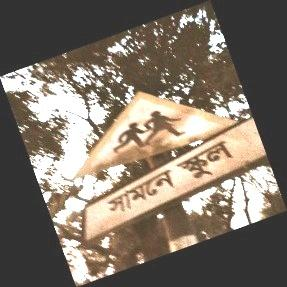School-in-front: (74, 90, 266, 246)
